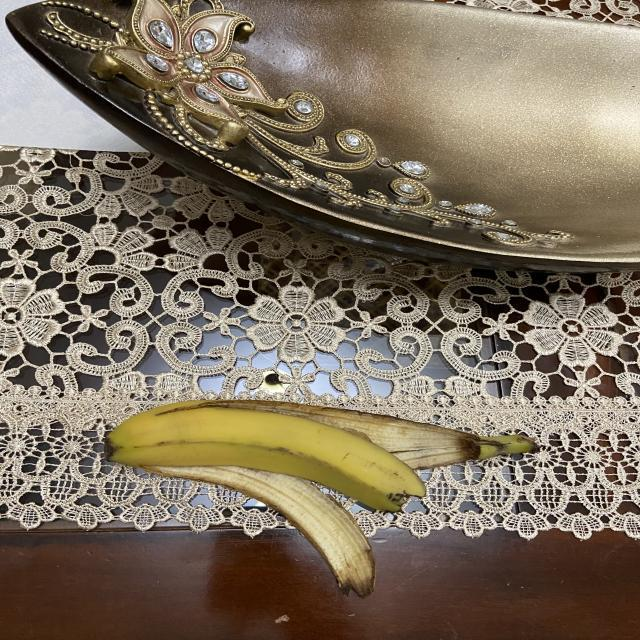banana-peel: (103, 396, 536, 597), (103, 399, 427, 514)
